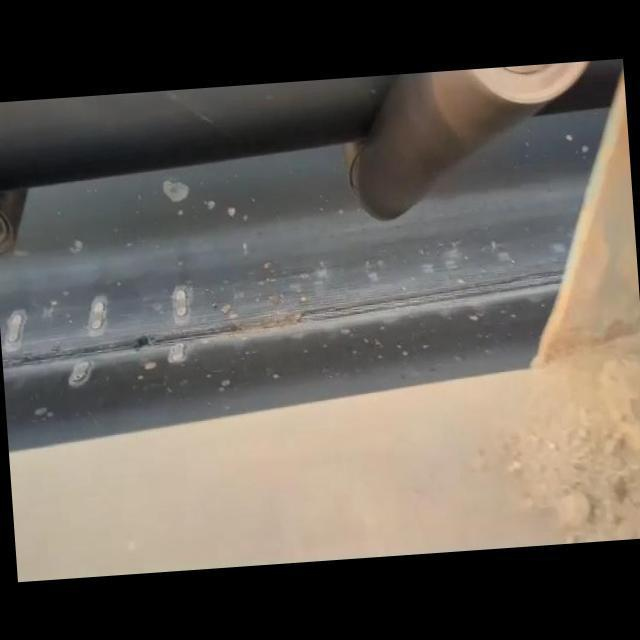Wear: (0, 266, 568, 378)
